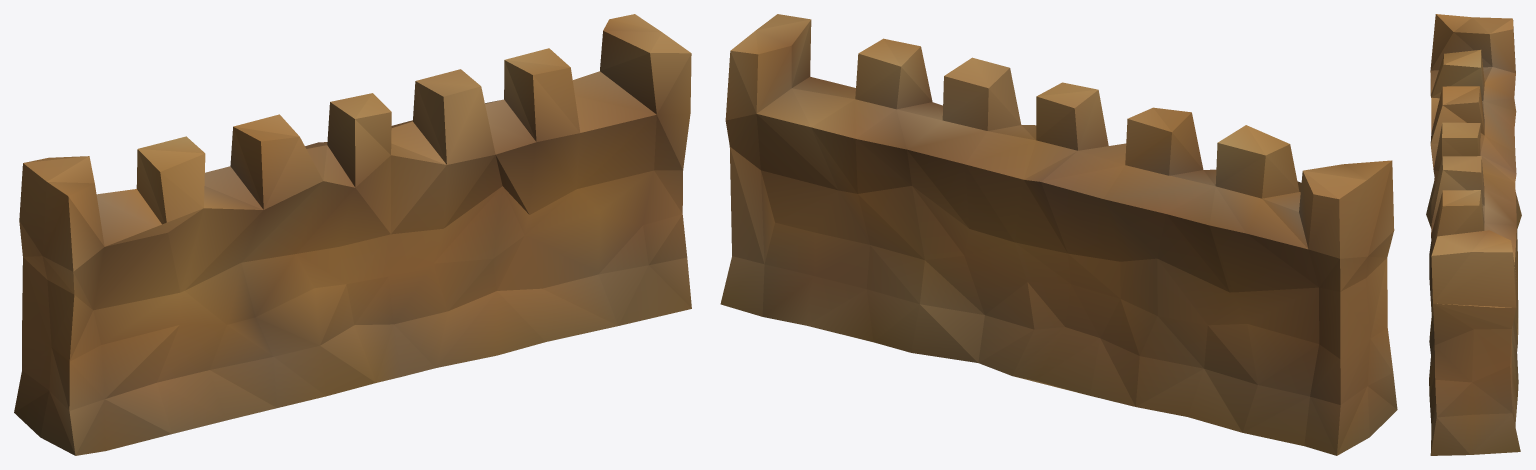
Rendered from fortress-wall.glb.
The picture shows the model from 3 angles, left to right: view 1: azimuth 30°, elevation 25°; view 2: azimuth 150°, elevation 25°; view 3: azimuth 270°, elevation 25°; orthographic projection. The views are drawn at different scales.
Visible parts, largest first — view 1: fortress-wall-far; view 2: fortress-wall-far; view 3: fortress-wall-far.
Boxes of the visible parts, bbox=[...] form: fortress-wall-far: bbox=[14, 14, 691, 455]; fortress-wall-far: bbox=[720, 14, 1397, 455]; fortress-wall-far: bbox=[1426, 14, 1521, 455].
Bounding box in the file's own units: 19.61 × 7.99 × 3.32.
